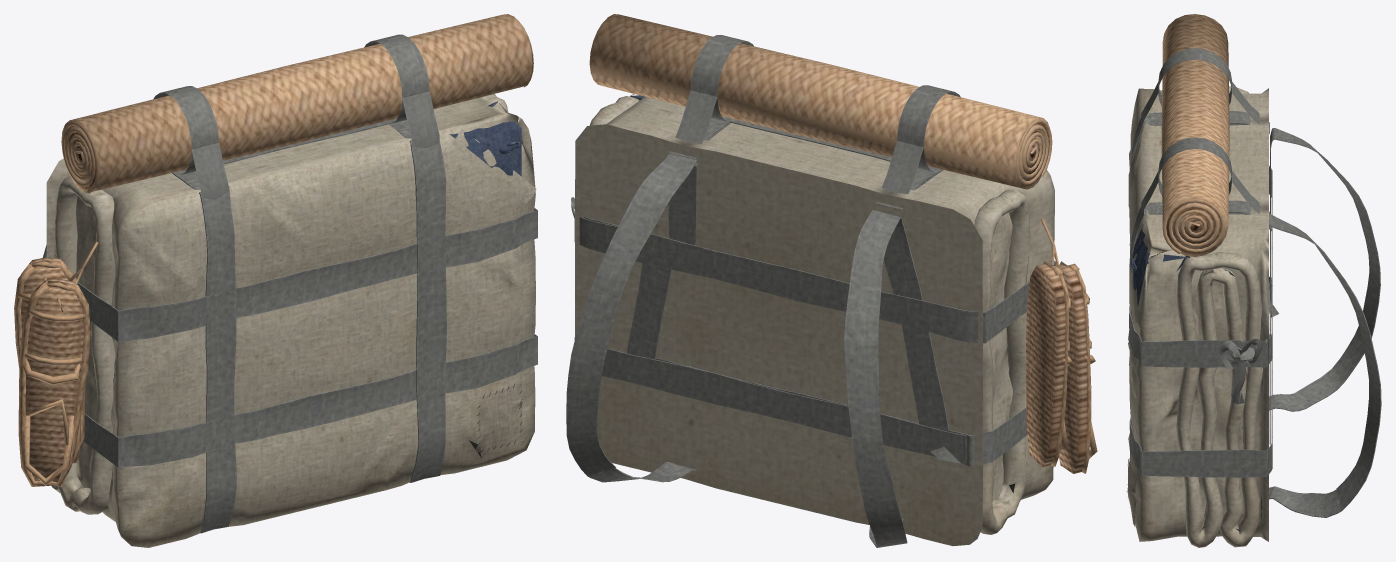
The model's file is Model_SichuanBlanketPack.glb.
3 views of the same model, side by side, from view 1: azimuth 30°, elevation 25°; view 2: azimuth 150°, elevation 25°; view 3: azimuth 270°, elevation 25° (orthographic). The views are drawn at different scales.
Visible parts, largest first — view 1: Pack_Bundle, Pack_ContinuousClothStrap, Pack_MatFrontConnector00, Pack_Sandal01BraidedRim, Pack_ClothButtonLoop; view 2: Pack_Bundle, Pack_ContinuousClothStrap, Pack_MatFrontConnector00, Pack_Sandal01BraidedRim; view 3: Pack_Bundle, Pack_ContinuousClothStrap, Pack_MatFrontConnector00, Pack_ClothButtonLoop.
Part boxes in pixels (<box>): Pack_Bundle: <box>46,94,536,547</box>; Pack_ContinuousClothStrap: <box>42,118,537,533</box>; Pack_MatFrontConnector00: <box>61,14,533,199</box>; Pack_Sandal01BraidedRim: <box>14,241,98,486</box>; Pack_ClothButtonLoop: <box>449,101,521,176</box>; Pack_Bundle: <box>575,96,1054,546</box>; Pack_ContinuousClothStrap: <box>566,116,1056,547</box>; Pack_MatFrontConnector00: <box>589,14,1052,209</box>; Pack_Sandal01BraidedRim: <box>1026,219,1097,473</box>; Pack_Bundle: <box>1126,86,1268,547</box>; Pack_ContinuousClothStrap: <box>1128,111,1381,517</box>; Pack_MatFrontConnector00: <box>1141,14,1269,256</box>; Pack_ClothButtonLoop: <box>1130,221,1189,306</box>.
Size of the model in its own units: 0.4572 by 0.3656 by 0.2319.
1 material, 1 textured.
